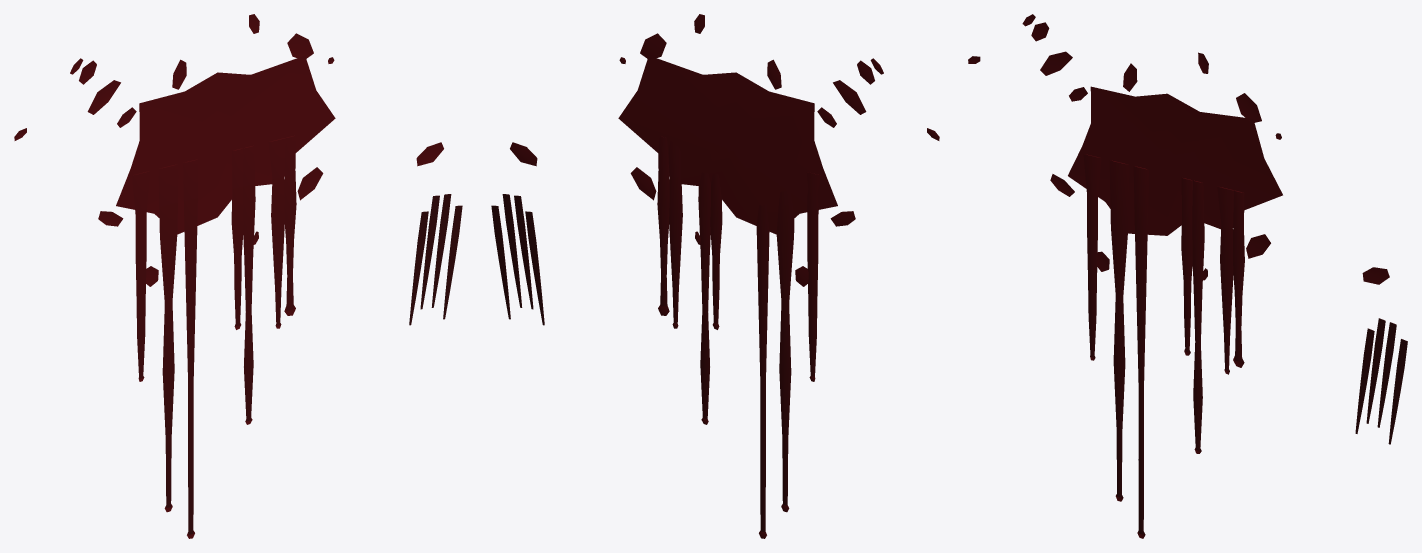
File: blood_smear_wall.glb
3 renders of one model, left to right at view 1: azimuth 30°, elevation 25°; view 2: azimuth 150°, elevation 25°; view 3: azimuth 330°, elevation 25°, orthographic.
Visible parts, largest first — view 1: blood_smear_wall; view 2: blood_smear_wall; view 3: blood_smear_wall.
Boxes of the visible parts, x1,y1,x2,y2 form: blood_smear_wall: (14,14,462,538); blood_smear_wall: (491,14,939,538); blood_smear_wall: (968,14,1407,538).
Size of what is drawn, in the model's own units: 1.27 by 1.38 by 0.005.
